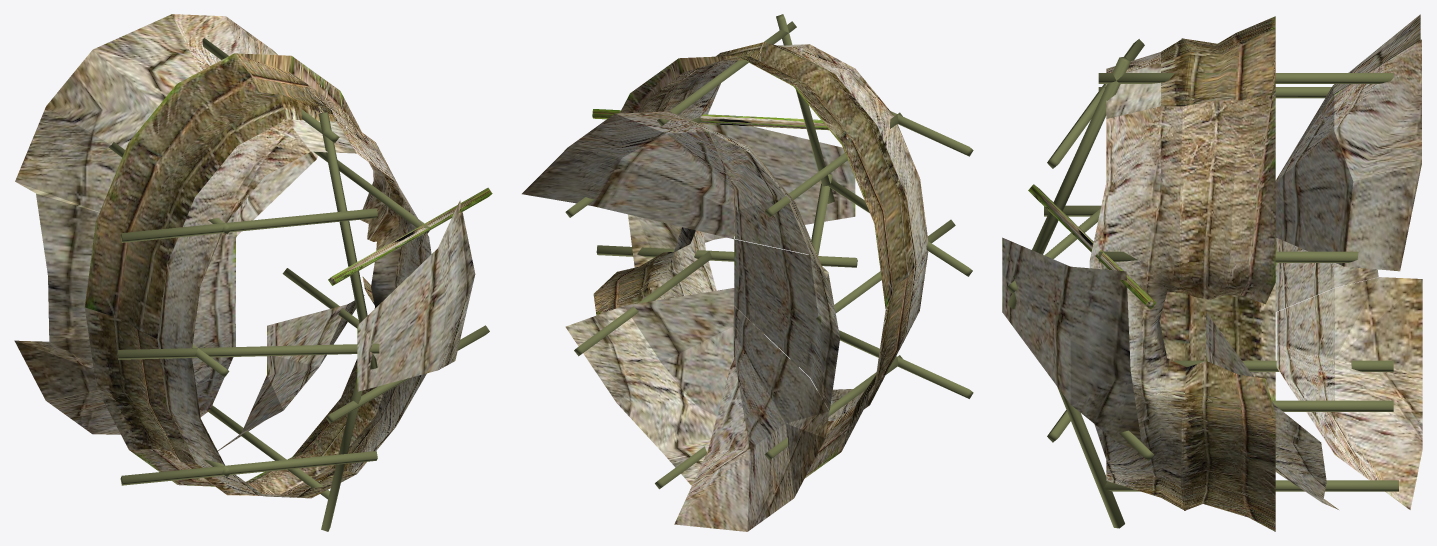
The model's file is hut_000035.obj.
3 renders of one model, left to right at view 1: azimuth 30°, elevation 25°; view 2: azimuth 150°, elevation 25°; view 3: azimuth 270°, elevation 25°, orthographic. The views are drawn at different scales.
Parts seen in each view (by area): view 1: Sphere.003, Sphere.002, Sphere.004, Sphere.001, Sphere.005, Sphere.007, Sphere.008, Sphere, Sphere.006, Cylinder.013_Cylinder.014, Cylinder.012_Cylinder.013, Cylinder.008_Cylinder.010 (+8 smaller); view 2: Sphere.008, Sphere, Sphere.006, Sphere.003, Sphere.007, Sphere.001, Sphere.002, Sphere.005, Sphere.004, Cylinder.010_Cylinder.011, Cylinder.011_Cylinder.012, Cylinder.003 (+9 smaller); view 3: Sphere.003, Sphere.001, Sphere.008, Sphere.006, Sphere.002, Sphere.005, Sphere, Sphere.007, Cylinder.009, Cylinder.001, Sphere.004, Cylinder.007 (+8 smaller).
Boxes of the visible parts, x1=… form: Sphere.003: x1=137, y1=94, x2=431, y2=498; Sphere.002: x1=84, y1=53, x2=386, y2=486; Sphere.004: x1=15, y1=14, x2=236, y2=237; Sphere.001: x1=116, y1=77, x2=403, y2=495; Sphere.005: x1=357, y1=200, x2=475, y2=391; Sphere.007: x1=36, y1=193, x2=235, y2=341; Sphere.008: x1=14, y1=303, x2=235, y2=434; Sphere: x1=218, y1=295, x2=364, y2=450; Sphere.006: x1=171, y1=14, x2=317, y2=235; Cylinder.013_Cylinder.014: x1=120, y1=208, x2=377, y2=242; Cylinder.012_Cylinder.013: x1=120, y1=451, x2=377, y2=485; Cylinder.008_Cylinder.010: x1=117, y1=343, x2=379, y2=359; Sphere.008: x1=674, y1=306, x2=829, y2=531; Sphere: x1=565, y1=288, x2=764, y2=485; Sphere.006: x1=522, y1=111, x2=734, y2=239; Sphere.003: x1=650, y1=42, x2=928, y2=433; Sphere.007: x1=734, y1=239, x2=839, y2=410; Sphere.001: x1=620, y1=42, x2=907, y2=447; Sphere.002: x1=593, y1=55, x2=892, y2=478; Sphere.005: x1=628, y1=124, x2=855, y2=267; Sphere.004: x1=673, y1=112, x2=828, y2=277; Cylinder.010_Cylinder.011: x1=592, y1=109, x2=828, y2=130; Cylinder.011_Cylinder.012: x1=596, y1=245, x2=857, y2=267; Cylinder.003: x1=574, y1=251, x2=712, y2=356; Sphere.003: x1=1089, y1=38, x2=1191, y2=510; Sphere.001: x1=1179, y1=33, x2=1247, y2=517; Sphere.008: x1=1276, y1=277, x2=1422, y2=509; Sphere.006: x1=1275, y1=39, x2=1421, y2=271; Sphere.002: x1=1224, y1=16, x2=1275, y2=531; Sphere.005: x1=1002, y1=237, x2=1141, y2=448; Sphere: x1=1206, y1=312, x2=1338, y2=509; Sphere.007: x1=1275, y1=237, x2=1378, y2=311; Cylinder.009: x1=1007, y1=57, x2=1130, y2=309; Cylinder.001: x1=1098, y1=73, x2=1393, y2=83; Sphere.004: x1=1275, y1=14, x2=1420, y2=181; Cylinder.007: x1=1013, y1=276, x2=1124, y2=528.
Bounding box in the file's own units: 4.43 × 4.88 × 3.8.
